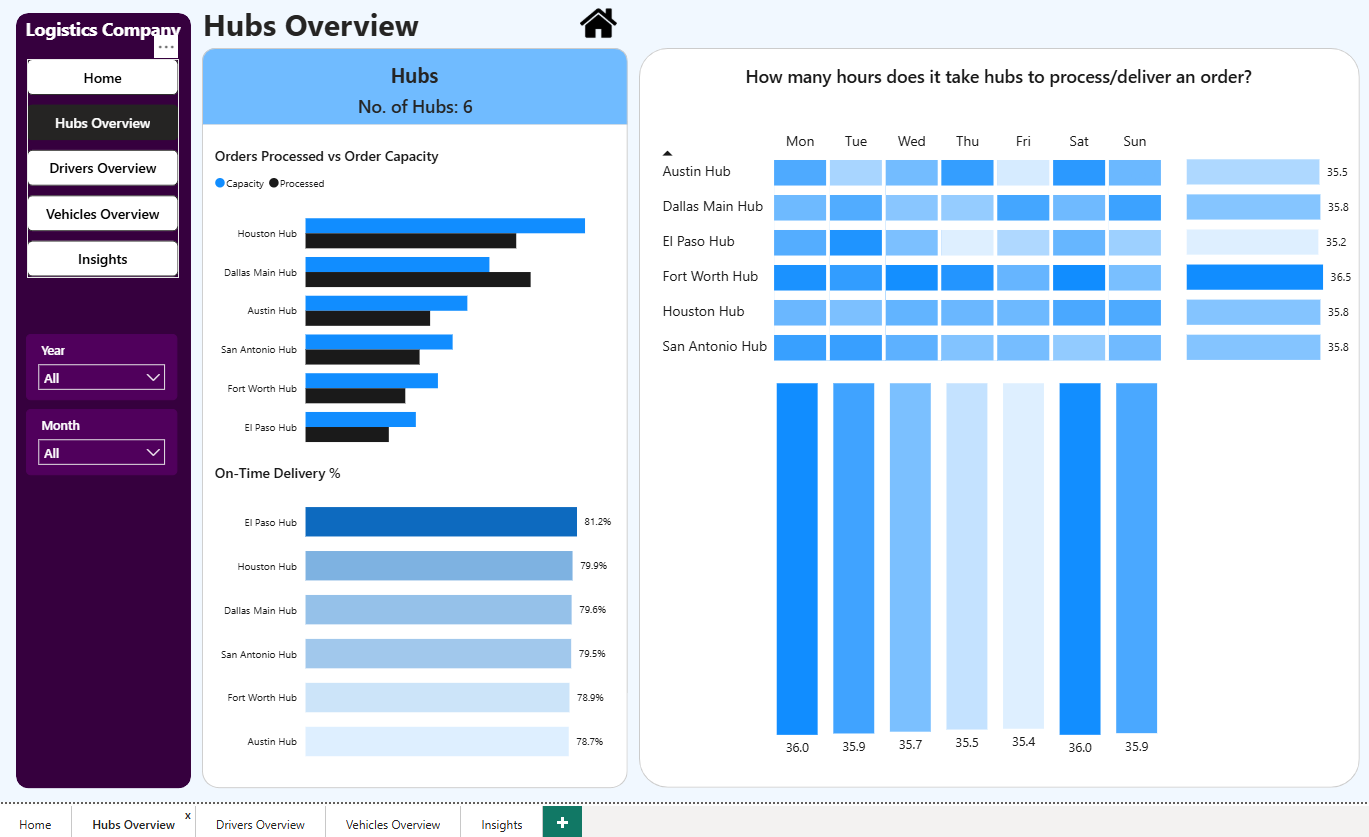

Layout of this report page (visuals, bound fields, positions):
{"tool":"powerbi","page":{"name":"Hubs Overview","canvas":[1450,850],"ordinal":1},"visuals":[{"type":"shape","box":[676,53,762,782],"z":0},{"type":"shape","box":[213.8,52.5,450,782.5],"z":1000},{"type":"shape","box":[16.5,15.4,185.1,819.8],"z":2000},{"type":"textbox","box":[209.3,0,498,62.8],"z":3000},{"type":"slicer","fields":{"Values":["Date Table.Year"]},"box":[28,355,160,70],"z":4000},{"type":"slicer","fields":{"Values":["Date Table.Month"]},"box":[28,435,160,70],"z":5000},{"type":"shape","box":[213.8,52.5,450,81.2],"z":6000},{"type":"textbox","box":[357.5,62.5,161.7,56],"z":7000},{"type":"image","box":[613,0,38.8,52.5],"z":8000},{"type":"cardVisual","fields":{"Data":["Hubs.No of Hubs"]},"box":[340,93.8,197.5,37],"z":9000},{"type":"clusteredBarChart","title":"On-Time Delivery %","fields":{"Category":["Hubs.HubName"],"Y":["Orders.On Time Delivery Rate"]},"box":[222.5,491.2,430,335],"z":10000},{"type":"pivotTable","fields":{"Rows":["Hubs.HubName"],"Columns":["Date Table.Day"],"Values":["Orders.Avg Delivery Time (Hrs)"]},"box":[690,133.8,551.2,260],"z":11000},{"type":"columnChart","fields":{"Category":["Date Table.Day"],"Y":["Orders.Avg Delivery Time (Hrs)"]},"box":[816.2,393.8,413.8,432.5],"z":12000},{"type":"barChart","fields":{"Category":["Hubs.HubName"],"Y":["Orders.Avg Delivery Time (Hrs)"]},"box":[1250,157.5,185,231.2],"z":13000},{"type":"cardVisual","fields":{"Data":["Hubs.Hub Title"]},"box":[676.2,62.5,758.8,37.5],"z":14000},{"type":"pageNavigator","box":[28.8,65,160,231.2],"z":15000},{"type":"clusteredBarChart","title":"Orders Processed vs Order Capacity","fields":{"Category":["Hubs.HubName"],"Y":["Hubs.Scaled Hub Capacity","Orders.Total Orders"]},"box":[222.5,156.2,430,335],"z":16000},{"type":"textbox","box":[20,15,177.5,35],"z":17000}]}

Visuals, with their boxes on the page's 1450x850 design canvas (x1, y1, x2, y2). These are canvas units, not pixel positions in the 1369x837 screenshot, which may show the page scaled, cropped or inside an application window:
shape: box=[676, 53, 1438, 835]
shape: box=[214, 52, 664, 835]
shape: box=[16, 15, 202, 835]
textbox: box=[209, 0, 707, 63]
slicer - Date Table.Year: box=[28, 355, 188, 425]
slicer - Date Table.Month: box=[28, 435, 188, 505]
shape: box=[214, 52, 664, 134]
textbox: box=[358, 62, 519, 118]
image: box=[613, 0, 652, 52]
cardVisual - Hubs.No of Hubs: box=[340, 94, 538, 131]
"On-Time Delivery %" clusteredBarChart: box=[222, 491, 652, 826]
pivotTable - Hubs.HubName x Date Table.Day: box=[690, 134, 1241, 394]
columnChart - Date Table.Day x Orders.Avg Delivery Time (Hrs): box=[816, 394, 1230, 826]
barChart - Hubs.HubName x Orders.Avg Delivery Time (Hrs): box=[1250, 158, 1435, 389]
cardVisual - Hubs.Hub Title: box=[676, 62, 1435, 100]
pageNavigator: box=[29, 65, 189, 296]
"Orders Processed vs Order Capacity" clusteredBarChart: box=[222, 156, 652, 491]
textbox: box=[20, 15, 198, 50]
